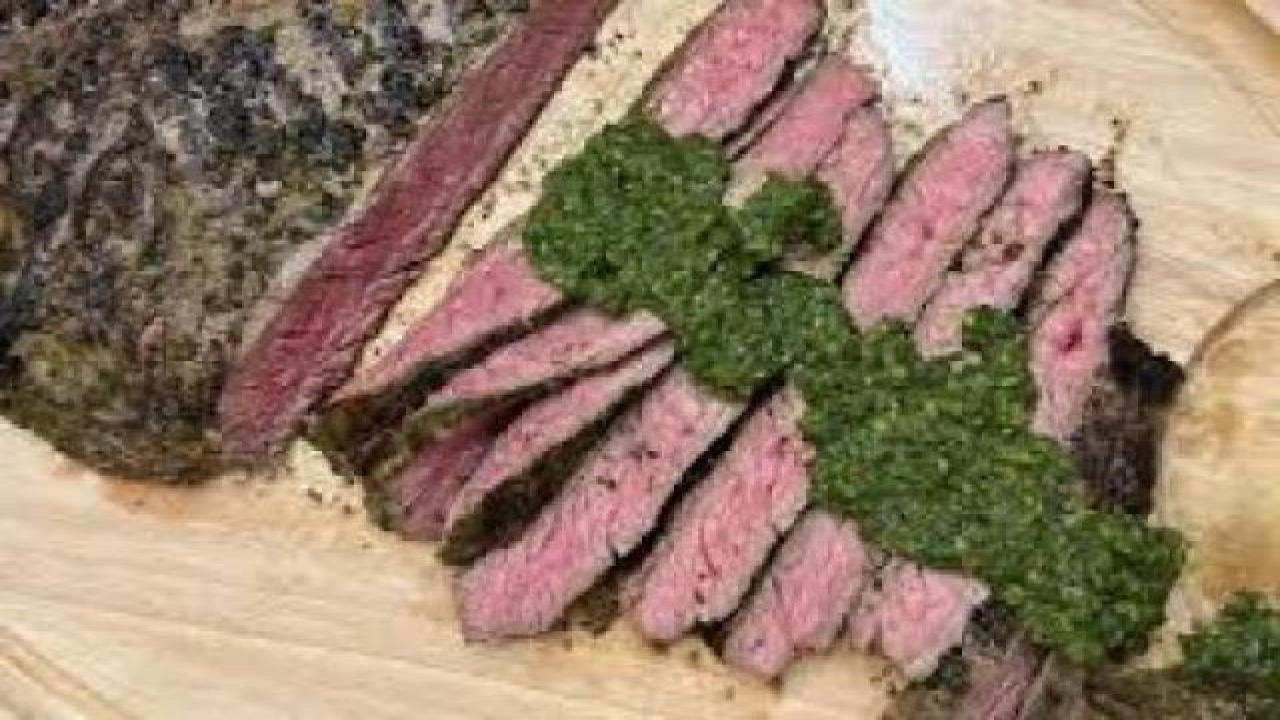Carne: (150, 10, 1226, 668)
